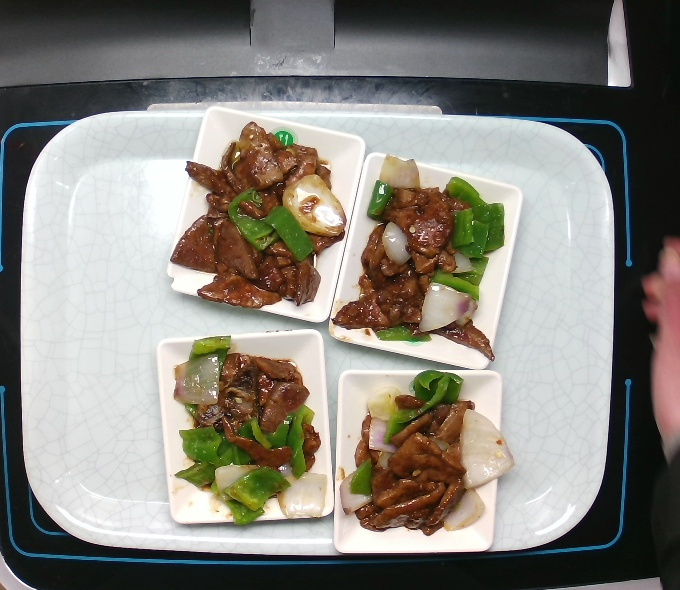wcq-ZhuGan: (336, 149, 500, 362), (166, 119, 347, 311), (338, 361, 514, 531), (173, 327, 327, 520)
